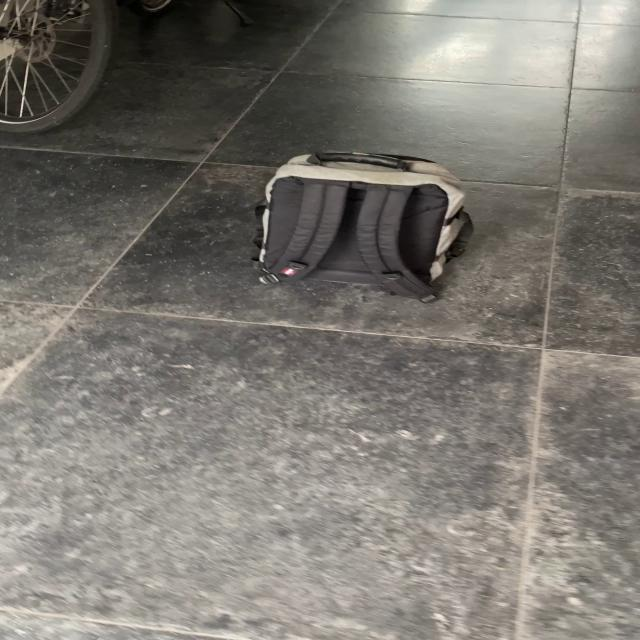backpack: (245, 146, 483, 284)
